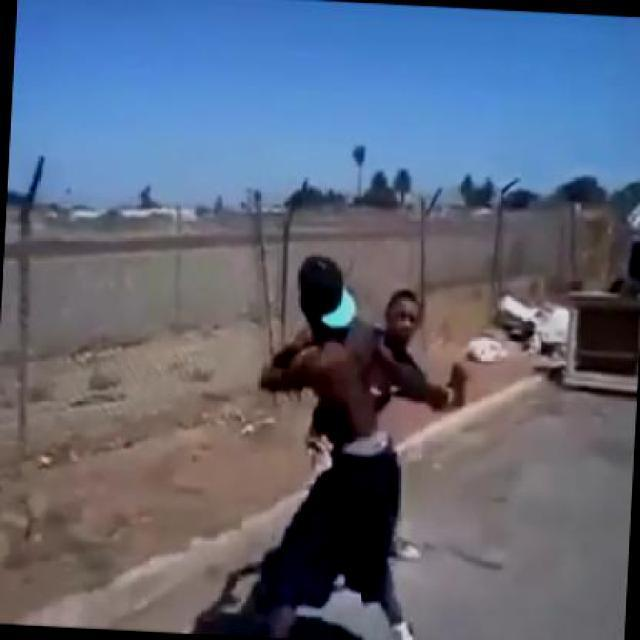fight: (238, 247, 474, 638)
